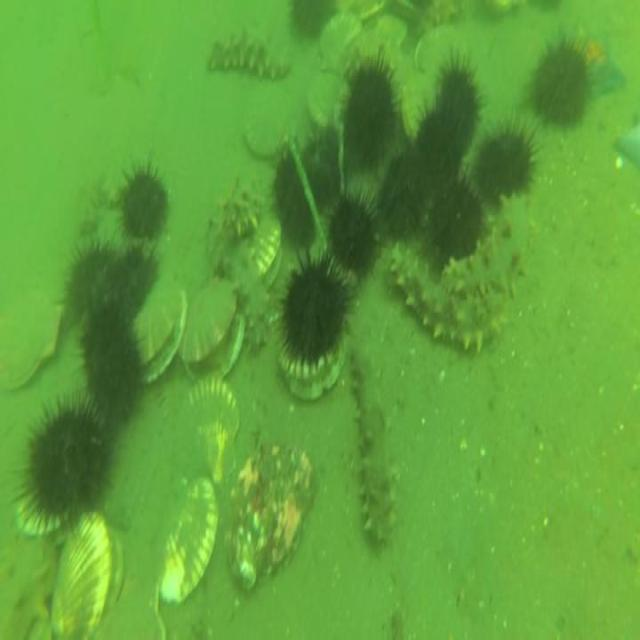echinus: (10, 398, 118, 536), (278, 246, 356, 370), (78, 313, 146, 425), (528, 34, 595, 130), (343, 56, 400, 168), (320, 186, 383, 286), (473, 109, 537, 202), (114, 148, 172, 246), (61, 234, 118, 327), (433, 47, 483, 152), (430, 175, 486, 267), (381, 142, 425, 240), (108, 245, 158, 329), (414, 101, 463, 185), (274, 153, 316, 250), (301, 130, 343, 207), (285, 0, 338, 44)
holothurian: (390, 244, 512, 352), (348, 348, 400, 554), (179, 278, 246, 383), (441, 223, 531, 294), (133, 275, 187, 392), (220, 239, 274, 346), (206, 28, 292, 84), (0, 536, 56, 602), (215, 172, 268, 237), (307, 68, 352, 130)
scallop: (226, 439, 320, 596), (49, 515, 123, 640), (162, 477, 220, 612), (0, 289, 62, 394), (185, 378, 243, 483), (273, 338, 347, 403), (91, 582, 168, 638), (413, 22, 467, 81), (354, 11, 412, 65), (243, 106, 300, 159), (401, 68, 439, 144), (250, 207, 282, 291), (13, 488, 67, 536), (320, 11, 365, 60)
starfish: (556, 21, 628, 102)
